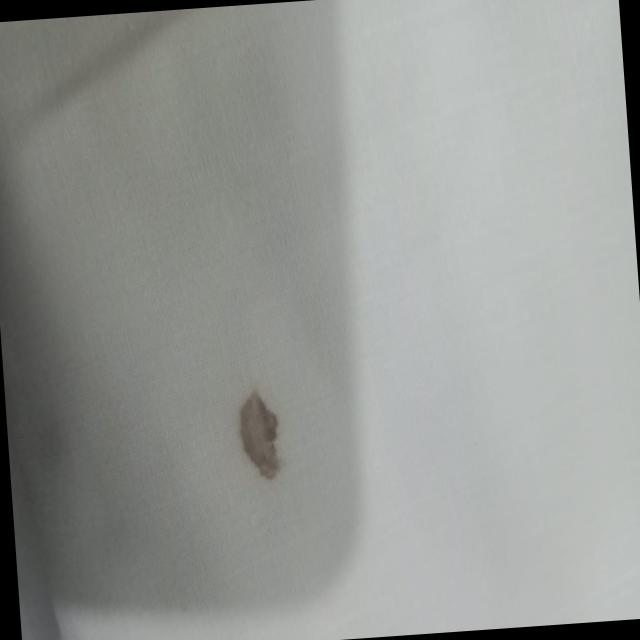stain: (231, 382, 288, 492)
